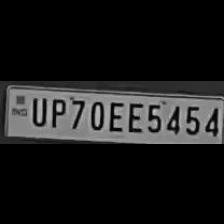0: (85, 96, 105, 130)
4: (163, 100, 181, 134), (202, 102, 220, 136)
5: (143, 99, 161, 133), (182, 101, 200, 135)
7: (65, 95, 84, 129)
E: (106, 97, 124, 131), (125, 99, 142, 133)
P: (47, 94, 67, 128)
U: (28, 94, 46, 126)
